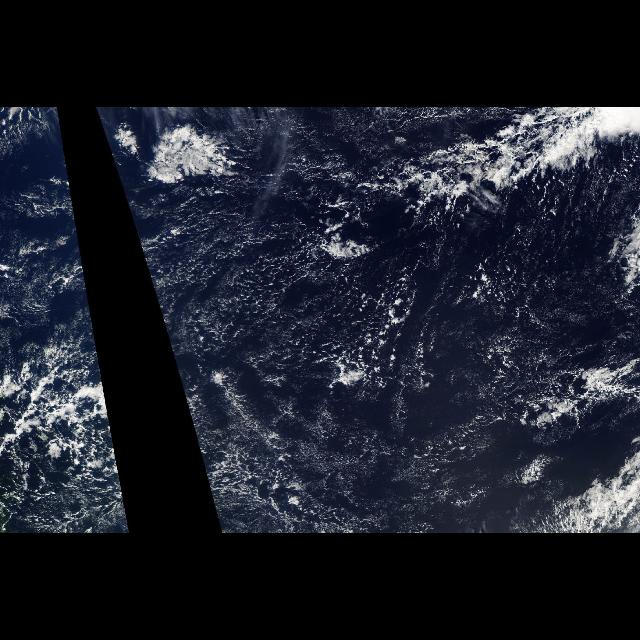Fish: (349, 107, 639, 217)
Gravel: (98, 113, 548, 532), (2, 112, 130, 534)
Sugar: (264, 400, 504, 512)
